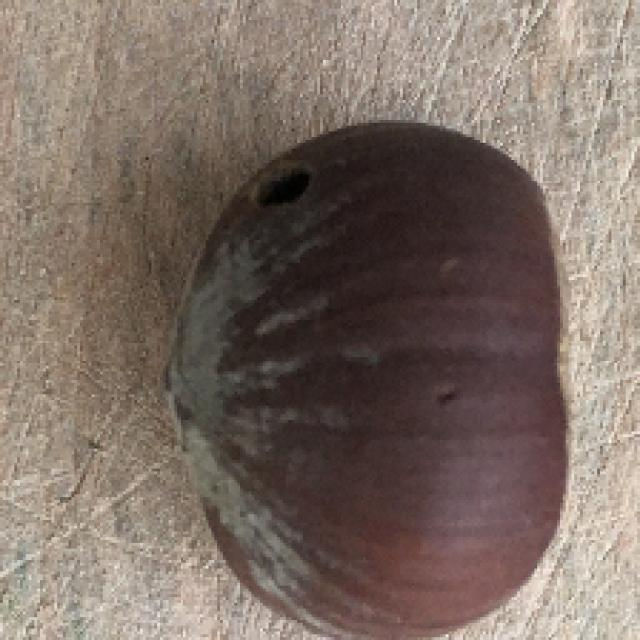damagedHazelnut: (163, 111, 583, 640)
